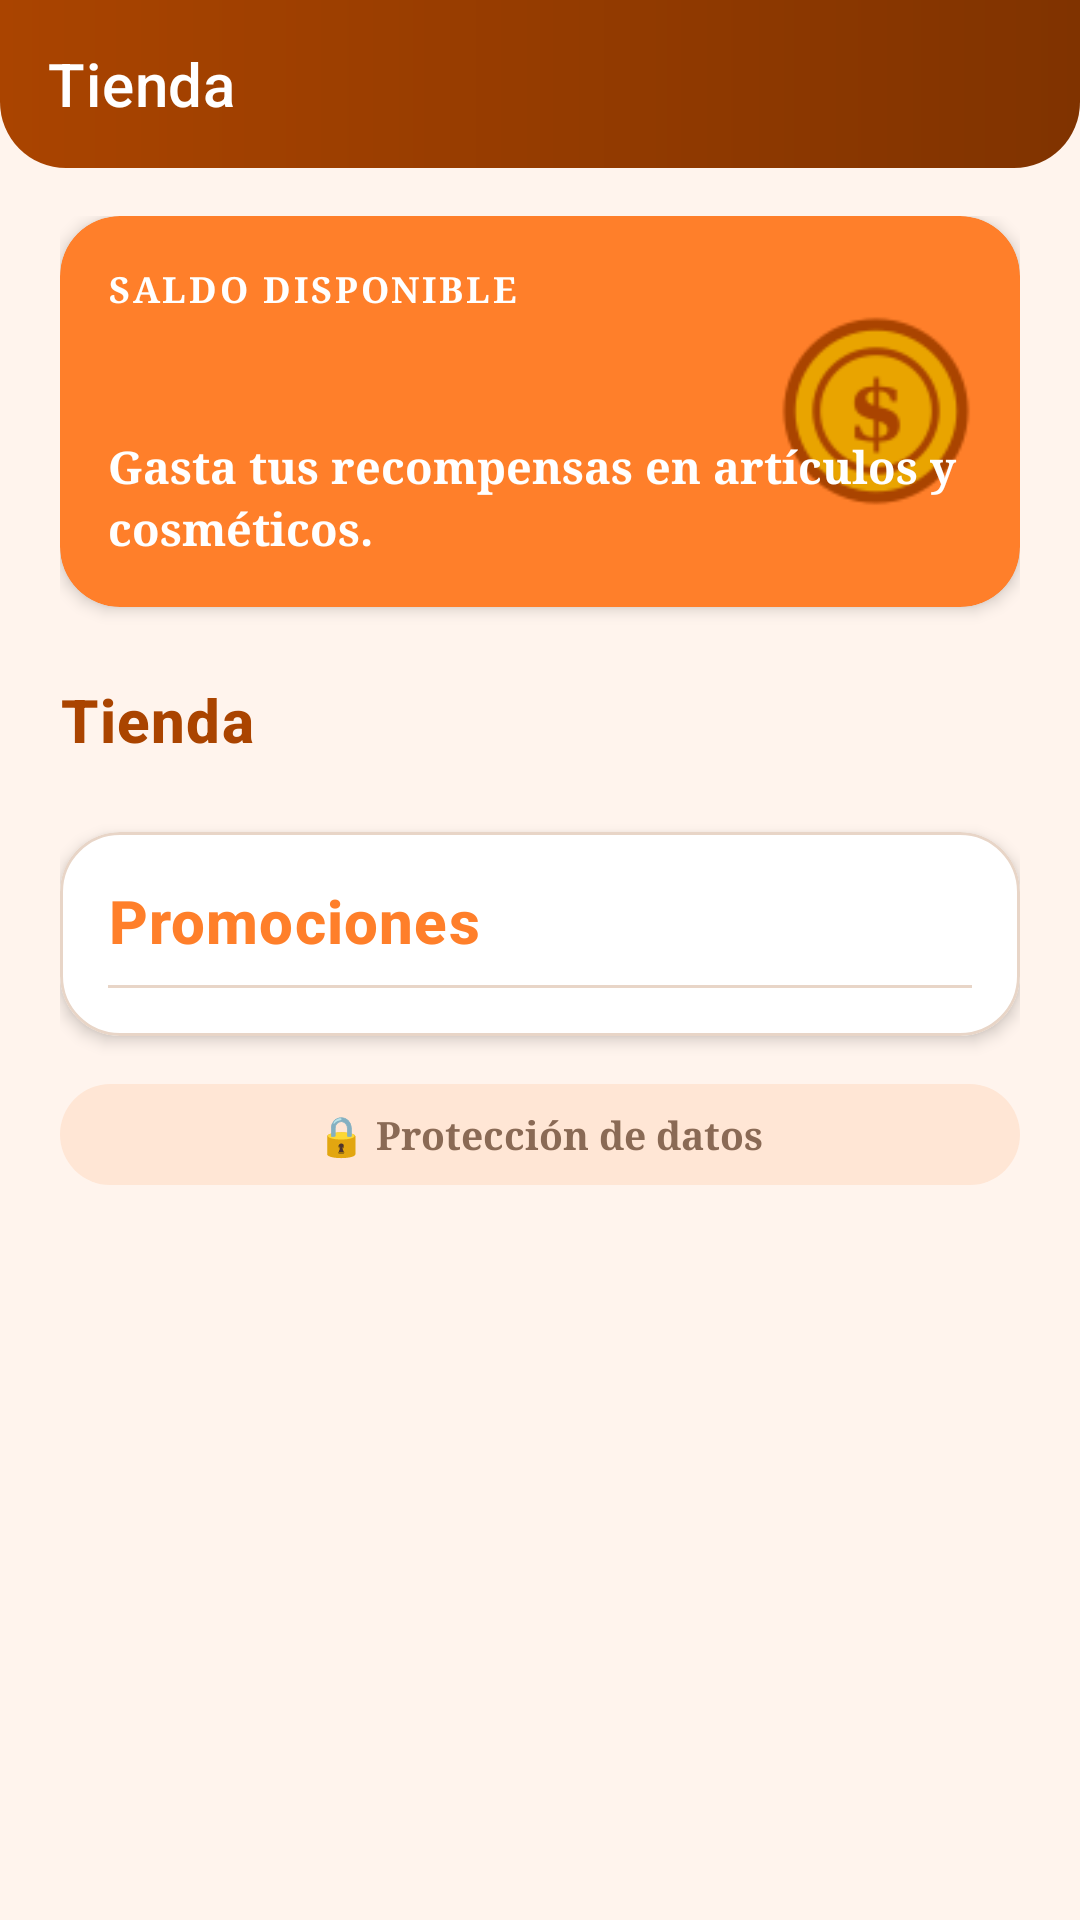

Named icons in this screenshot (1080x1920) and their bounding boxes, (x1, y1, x2, y2):
Saldo disponible: (783, 318, 969, 504)
